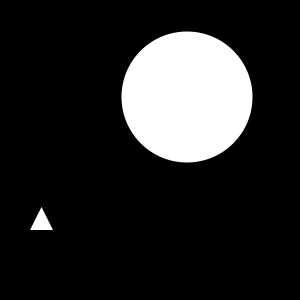rectangle: (121, 31, 252, 162)
triangle: (30, 207, 53, 230)
